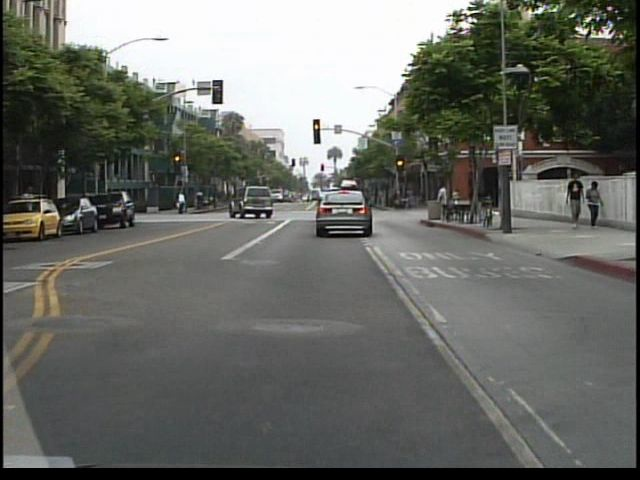person: (562, 172, 587, 231), (584, 178, 608, 232), (437, 181, 457, 223), (175, 186, 191, 218)
